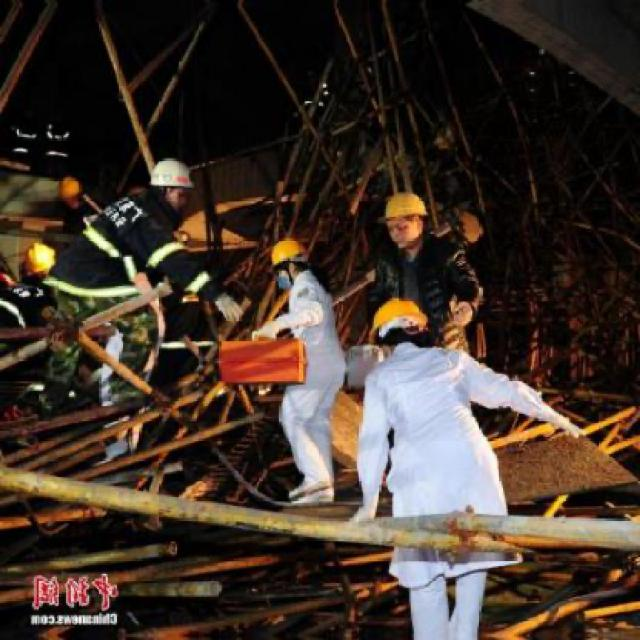helmet: (369, 298, 429, 356), (148, 157, 197, 209), (386, 191, 428, 249), (268, 232, 312, 285), (25, 238, 60, 277), (58, 177, 88, 206)
